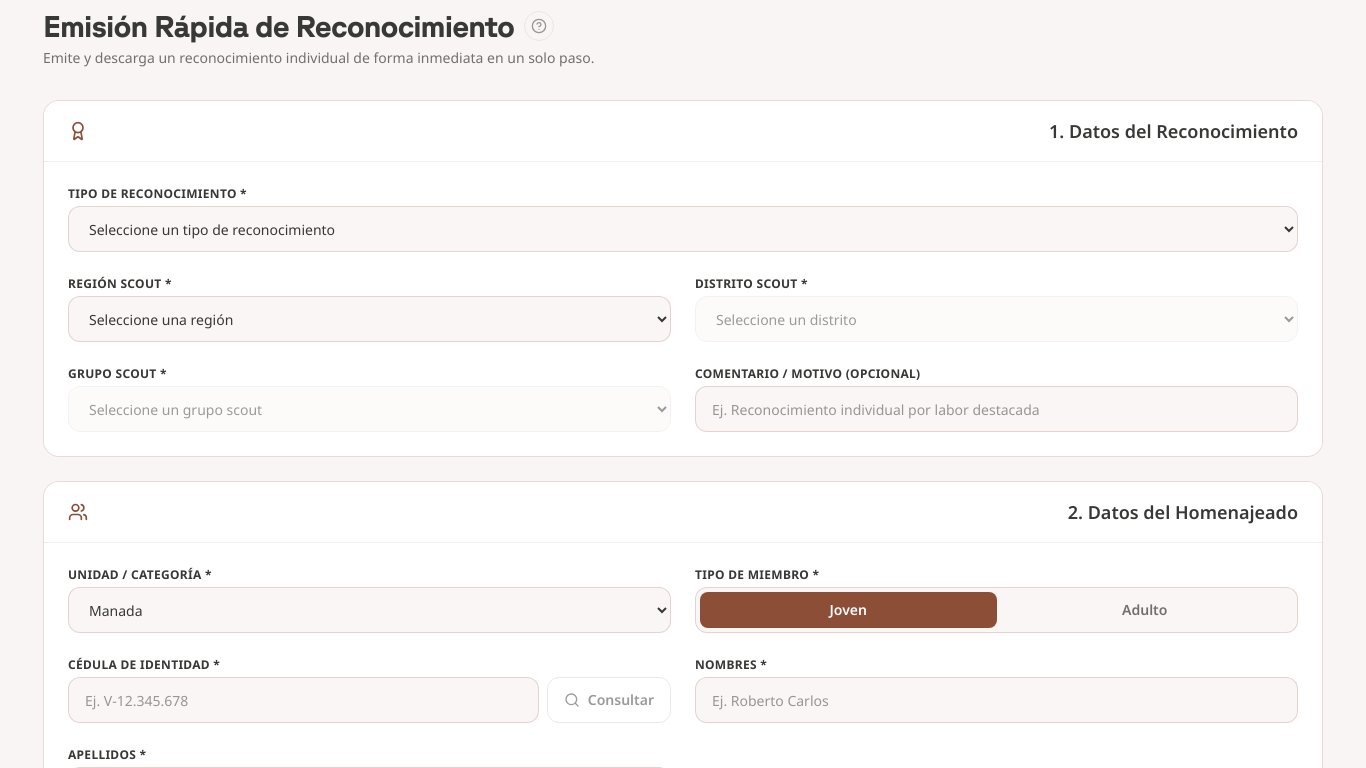
Test: QuickRecognition Component › sanitizes non-numeric and non-V characters in quick recognition cédula input
Type "V-12.345.678 (hola!)" into the field labelled "Cédula de Identidad" at coordinates (303, 700), box [68, 677, 539, 723]
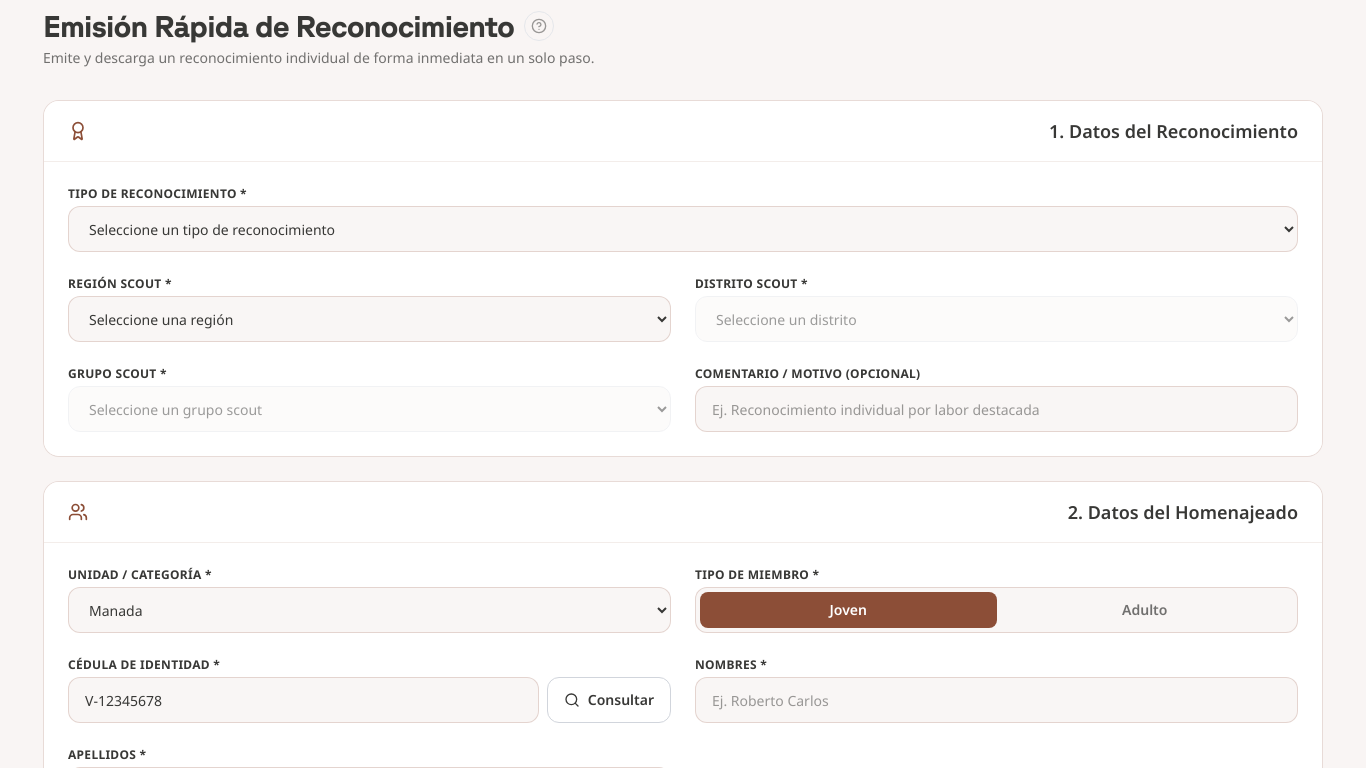
Now the field labelled "Cédula de Identidad" holds "V-12345678", box [68, 677, 539, 723]
